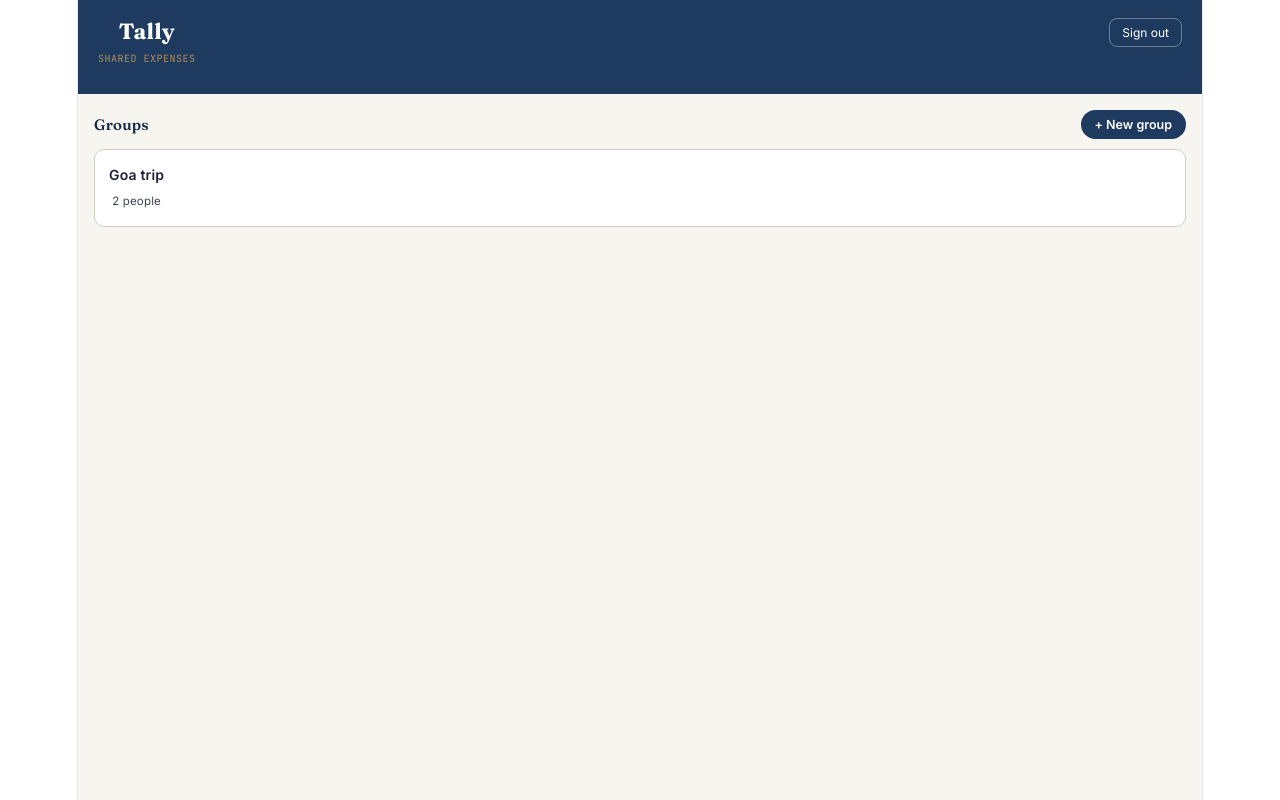
Test: Expense detail, edit, delete › opens an expense, shows the split, edits it, and deletes it
Later steps or results of the test are not shown.
Click the text "Goa trip" at (137, 175), box [109, 162, 164, 188]
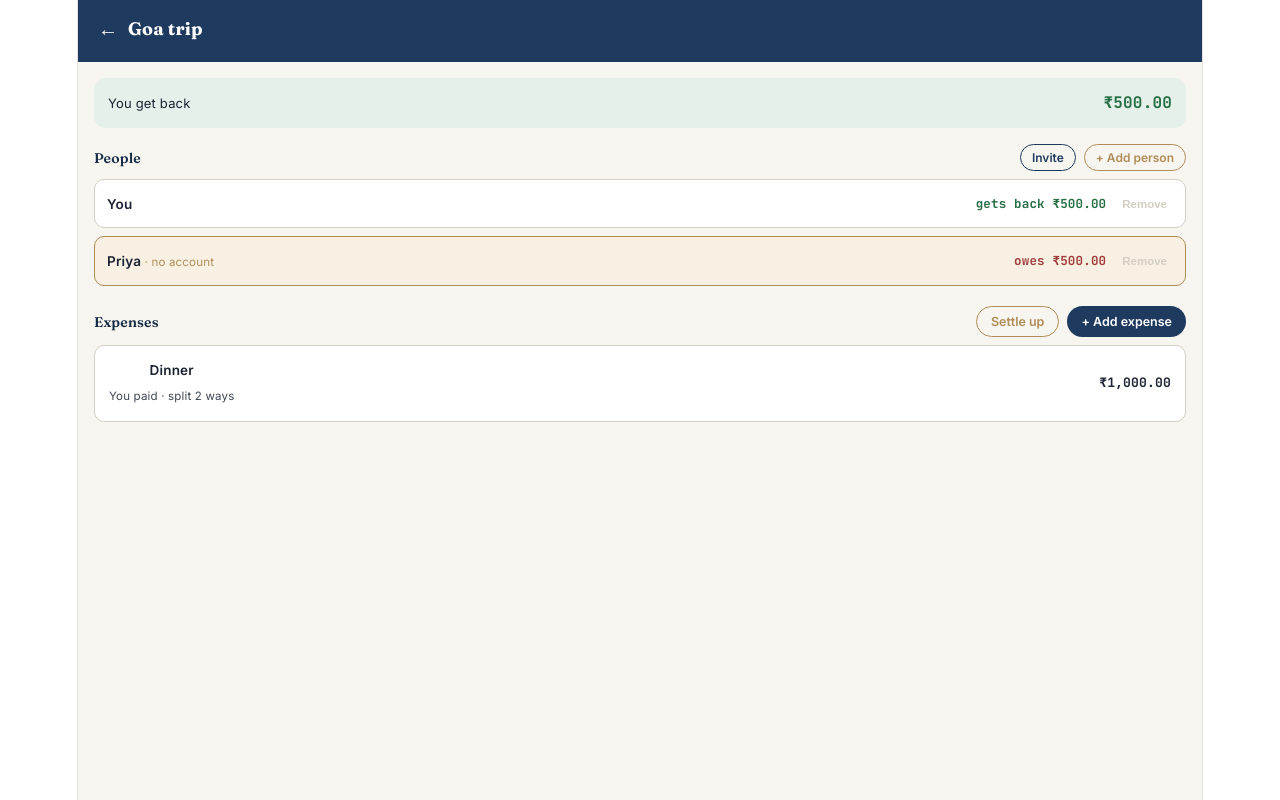
Expected: the text "Dinner" is shown
Click the text "Dinner" at (172, 370), box [150, 362, 194, 378]
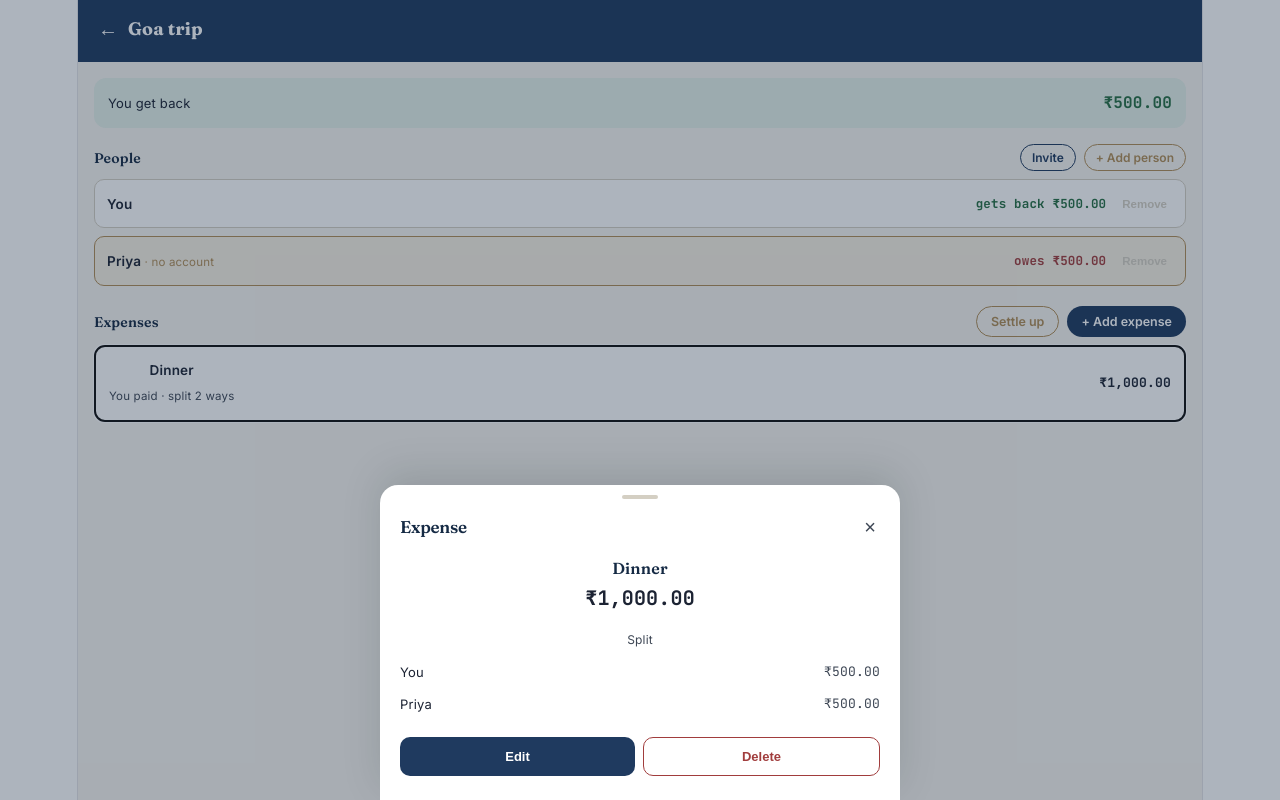
Expected: the text "Priya" next to "· no account" is shown, [107, 253, 141, 269]
Expected: the button "Edit" is shown
Expected: the button "Delete" is shown, [643, 737, 880, 776]
Click the button "Edit" at (518, 756), box [400, 737, 635, 776]
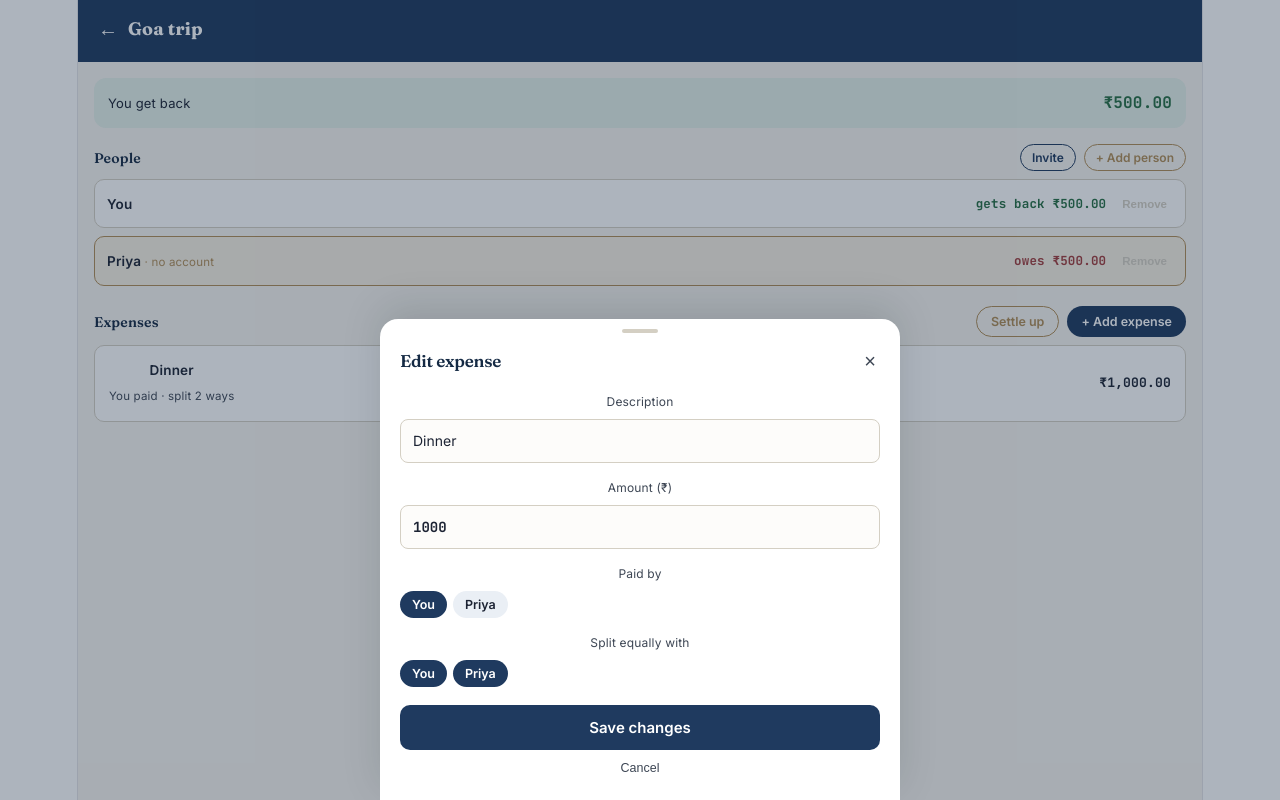
Replace the text in the field showing "Dinner" with "Dinner (updated)" at (640, 441), box [400, 419, 880, 463]
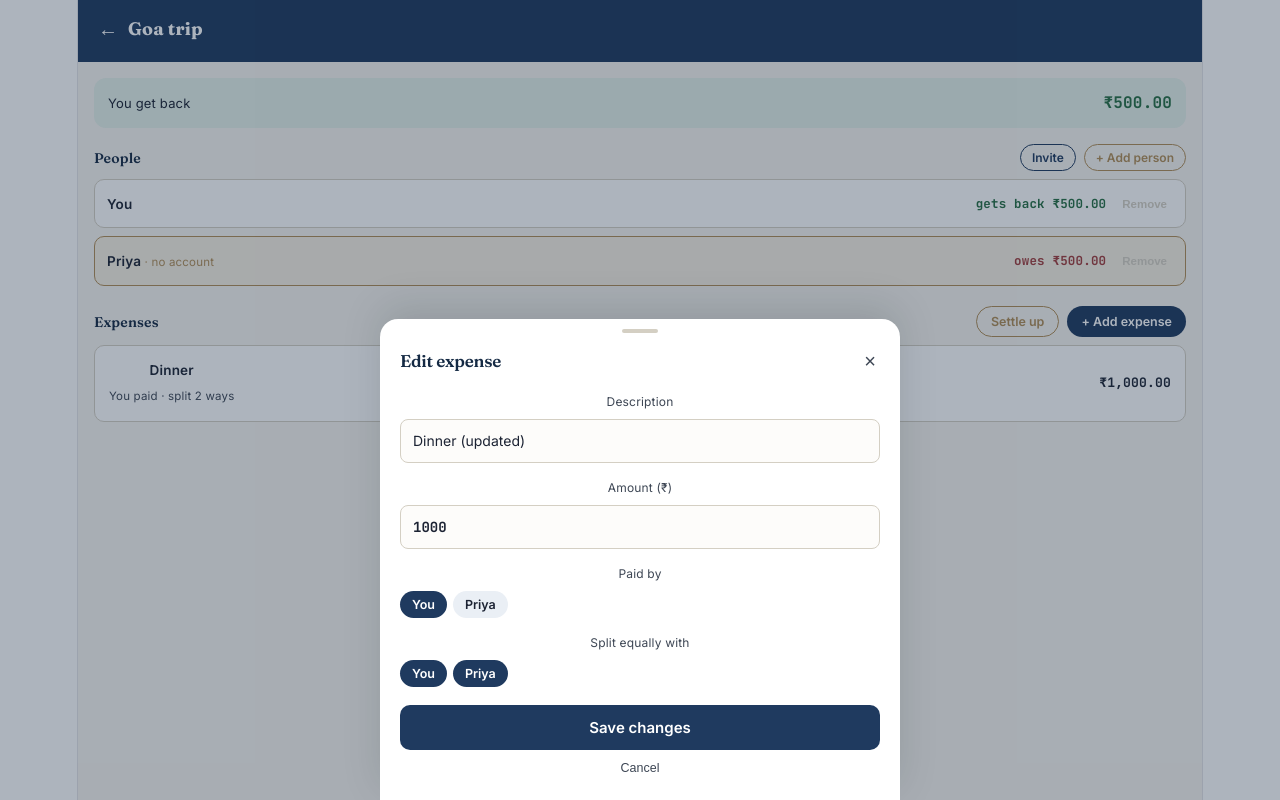
Click the button "Save changes" at (640, 728), box [400, 705, 880, 750]
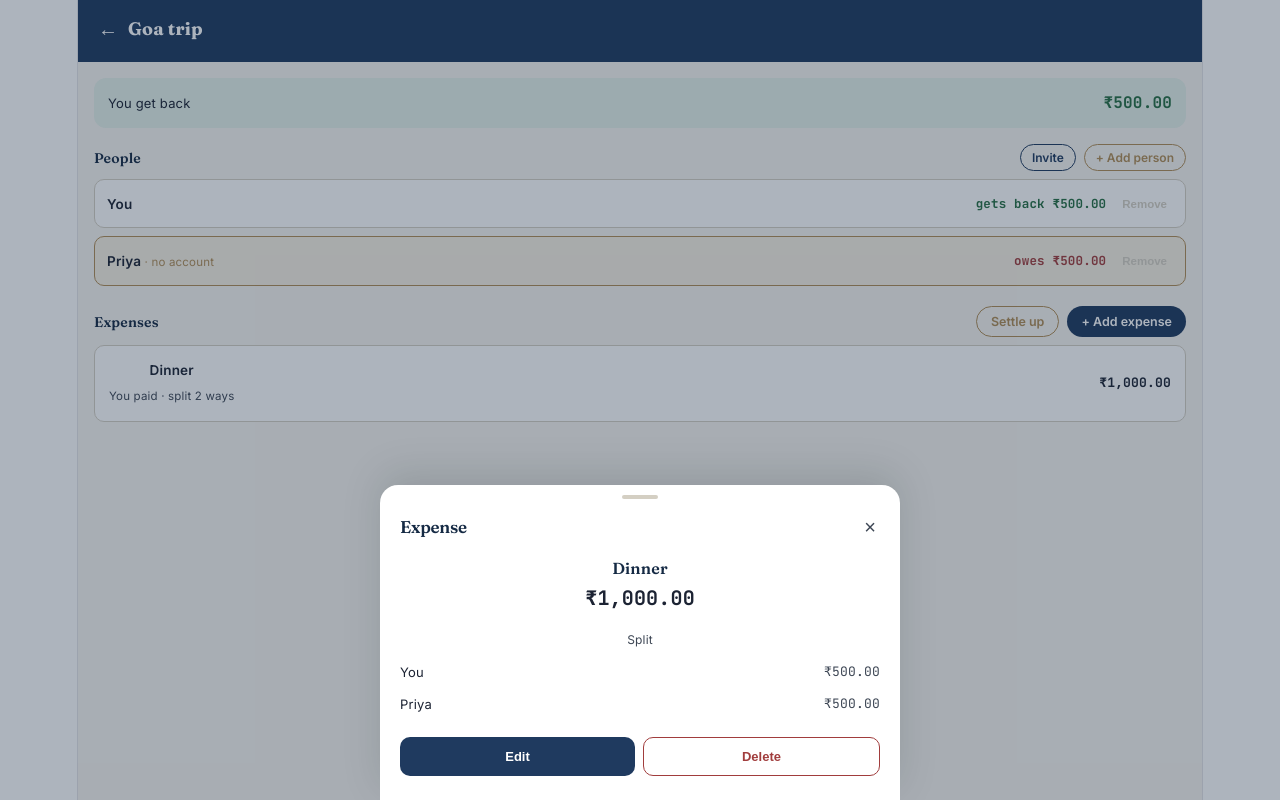
Expected: the button "Delete" is shown
Click the button "Delete" at (762, 756), box [643, 737, 880, 776]
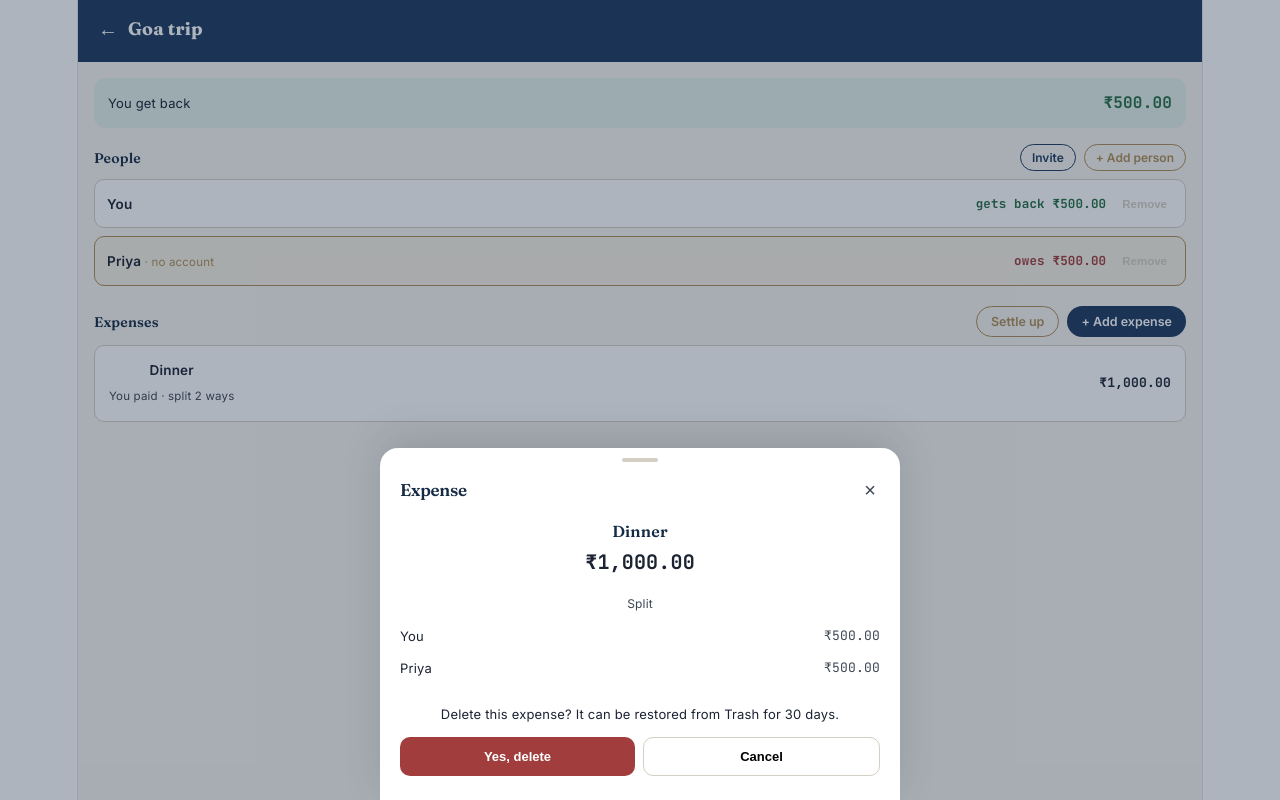
Expected: the text "Delete this expense?" is shown, [441, 706, 839, 722]
